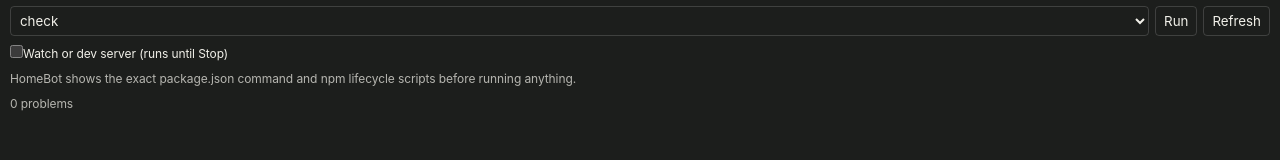
Test case: shows an IPC failure and allows the selected task to be retried
Step 1. Click the button "Run" → (1176, 21), box [1155,6,1197,36]
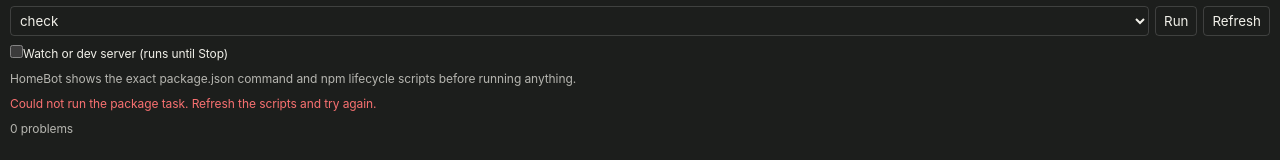
Expected: the message shows "Could not run the package task", [10,96,376,111]
Step 2. Click the button "Run" → (1176, 21), box [1155,6,1197,36]
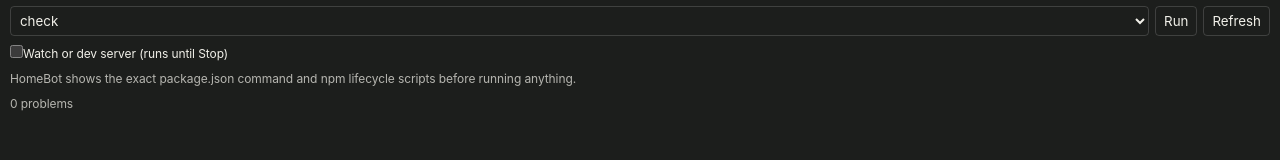
Expected: the message "Could not run the package task. Refresh the scripts and try again." is gone
